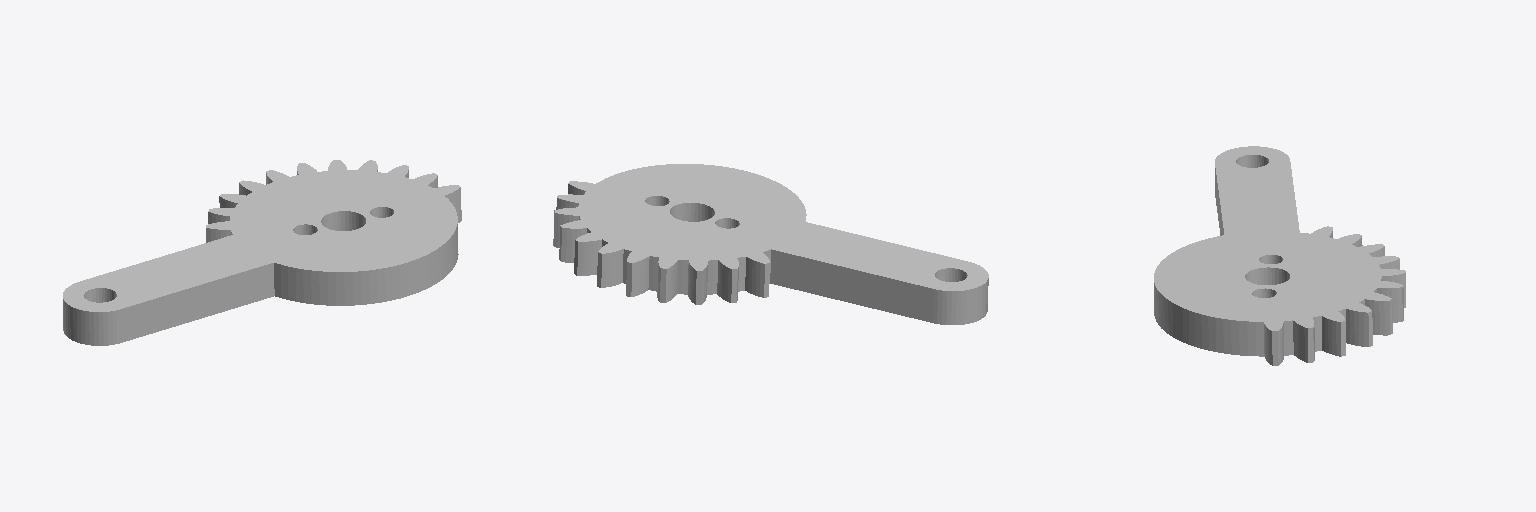
Rendered from fabconvert_com_gear2_obj.obj.
3 views of the same model, side by side, from view 1: azimuth 30°, elevation 25°; view 2: azimuth 150°, elevation 25°; view 3: azimuth 270°, elevation 25° (orthographic).
Visible parts, largest first — view 1: fabconvert.com_gear2; view 2: fabconvert.com_gear2; view 3: fabconvert.com_gear2.
Part boxes in pixels (x1,y1,x2,y2): fabconvert.com_gear2: (63, 160, 461, 345); fabconvert.com_gear2: (553, 164, 988, 324); fabconvert.com_gear2: (1154, 146, 1405, 365).
Bounding box in the file's own units: 2.94 × 0.3224 × 1.59.